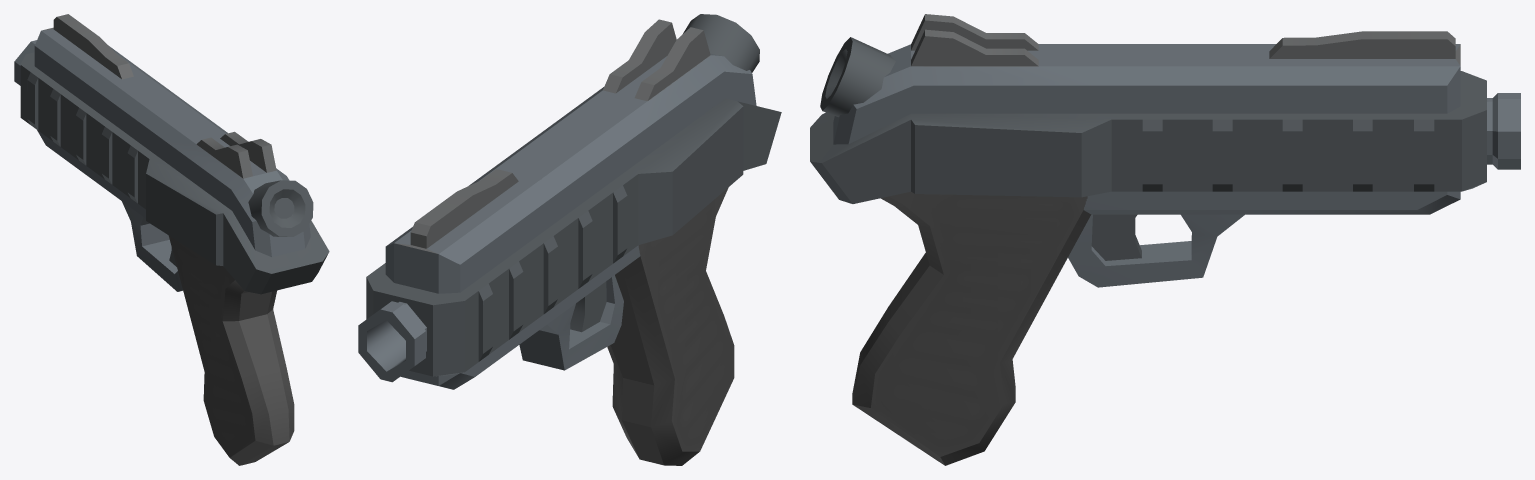
File: Pistol_Gun01.fbx
3 renders of one model, left to right at view 1: azimuth 30°, elevation 25°; view 2: azimuth 150°, elevation 25°; view 3: azimuth 270°, elevation 25°, orthographic. The views are drawn at different scales.
Parts seen in each view (by area): view 1: Pistol gun; view 2: Pistol gun; view 3: Pistol gun.
Part boxes in pixels (x1,y1,x2,y2): Pistol gun: [14, 14, 329, 465]; Pistol gun: [358, 14, 781, 465]; Pistol gun: [810, 14, 1520, 465].
Bounding box in the file's own units: 24.28 × 72.69 × 108.
1 material, 1 textured.
